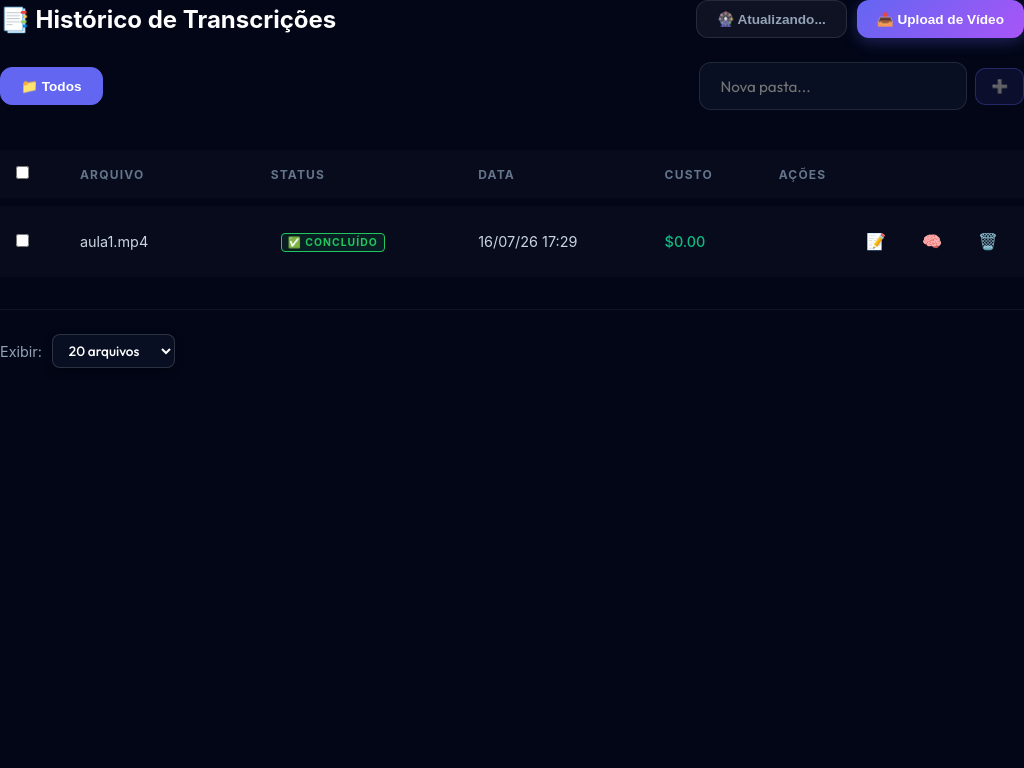
Test: TranscriptionHistory - Paginação e Deleção Premium › deve abrir o modal de confirmação de exclusão individual ao clicar na lixeira
The image size is (1024, 768).
What coordinates should you click on to do the following:
click the button titled "Excluir transcrição"
I would click on:
 (988, 242)
Its box is 968,226 -> 1008,257.
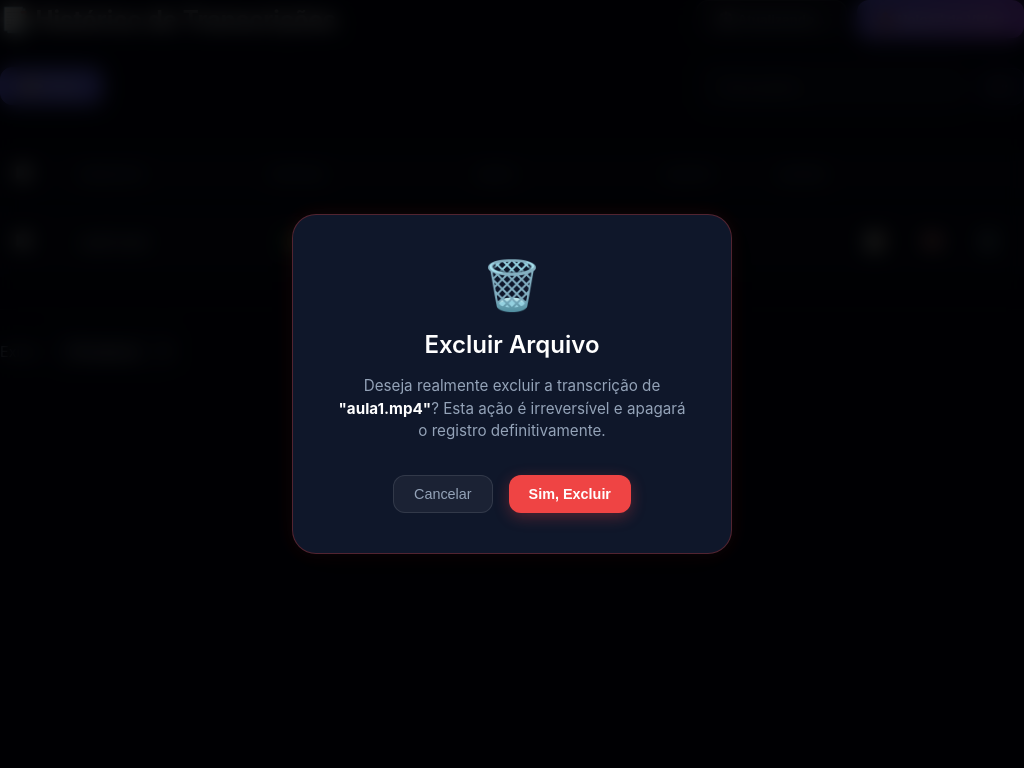
Result: the heading "Excluir Arquivo" is shown at 424,330 -> 600,359
